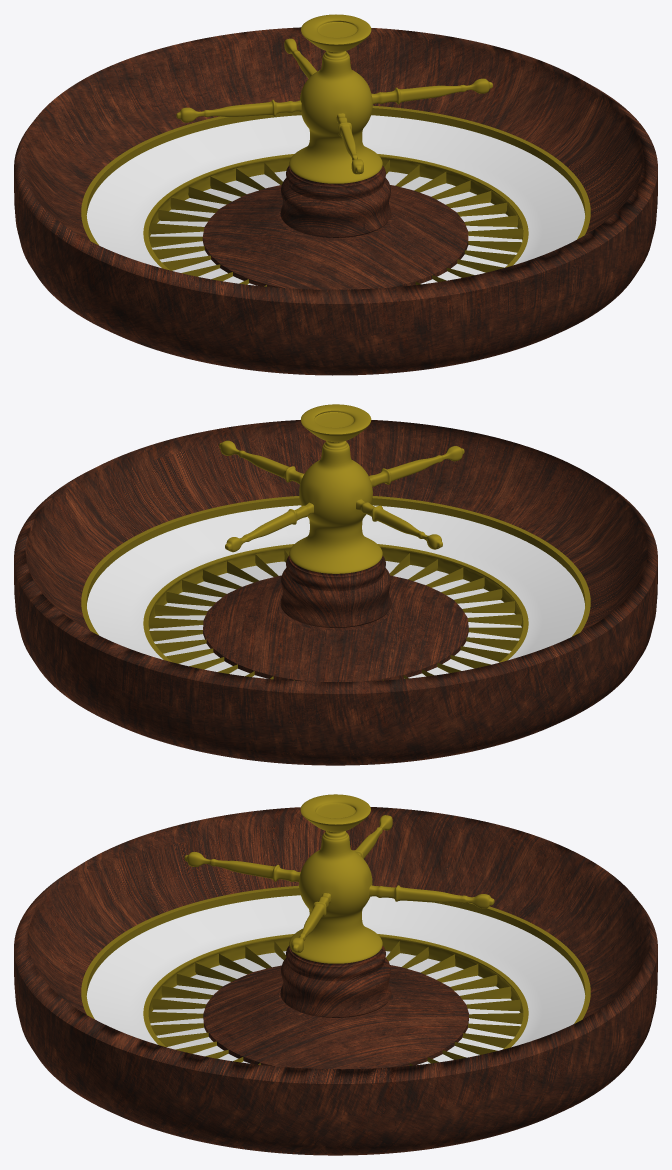
Rendered from RouletteNewNew.fbx.
3 views of the same model, one above another, from view 1: azimuth 30°, elevation 25°; view 2: azimuth 150°, elevation 25°; view 3: azimuth 270°, elevation 25° (orthographic).
Parts seen in each view (by area): view 1: Circle, Circle.001, Circle.002; view 2: Circle, Circle.001, Circle.002; view 3: Circle, Circle.001, Circle.002.
Boxes of the visible parts, box(x1,y1,x2,y2) form: Circle: box(14, 27, 657, 375); Circle.001: box(143, 14, 528, 289); Circle.002: box(81, 105, 590, 267); Circle: box(14, 420, 657, 765); Circle.001: box(143, 404, 528, 681); Circle.002: box(81, 496, 590, 660); Circle: box(14, 807, 657, 1155); Circle.001: box(143, 794, 528, 1069); Circle.002: box(81, 885, 590, 1047).
Size of the model in its own units: 419 by 162 by 419.
